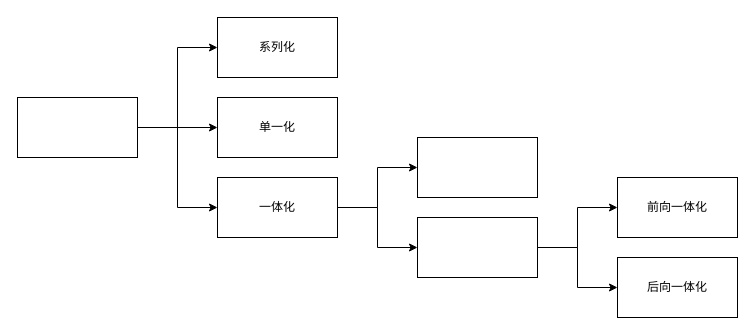
The diagram is 755 pixels wide and 335 high, and some of its shapes have lost their labels. The centre of each missing label's shape, as x and y in pixels:
"专业化战略" belongs at (x=77, y=127).
"横向一体化" belongs at (x=477, y=167).
"纵向一体化" belongs at (x=477, y=247).
